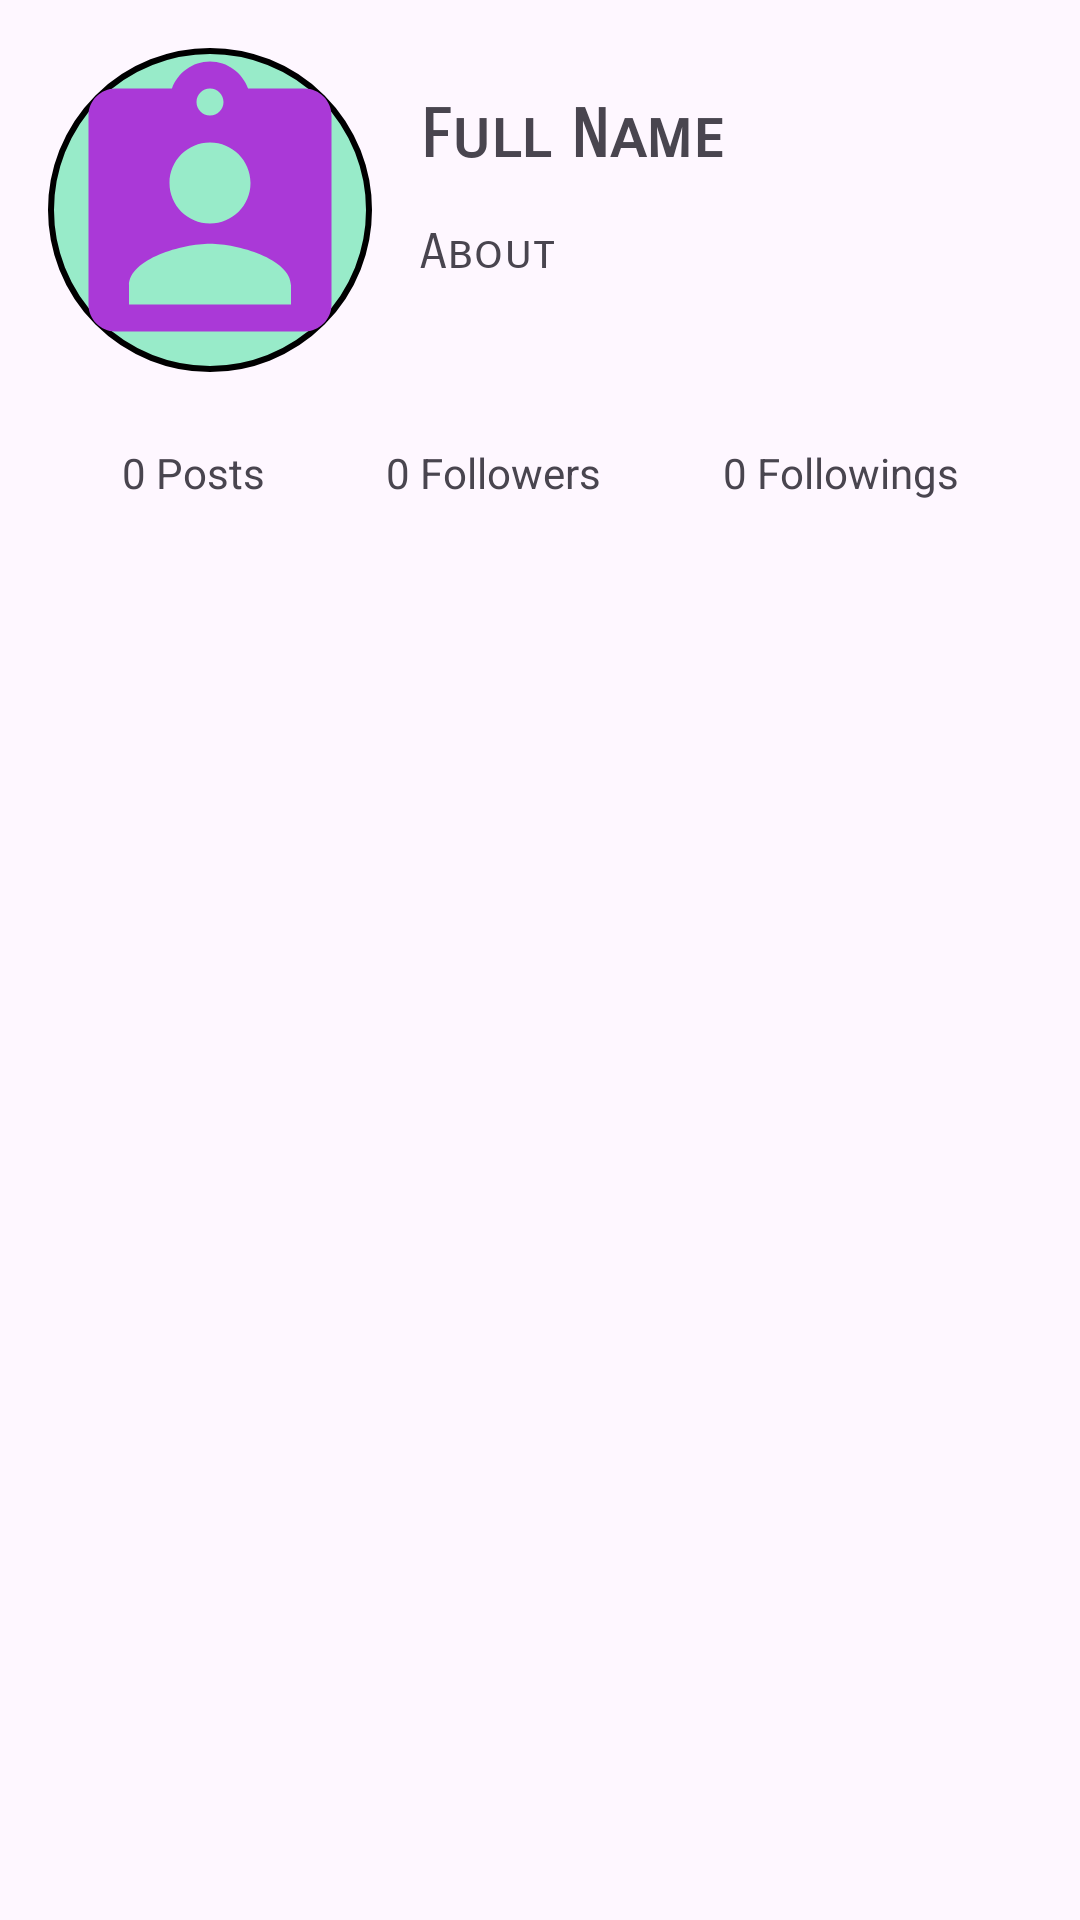

Point at icon controls on the screen. Image size 1080px x 1920px, points as point (x, y).
profile person: point (210, 210)
